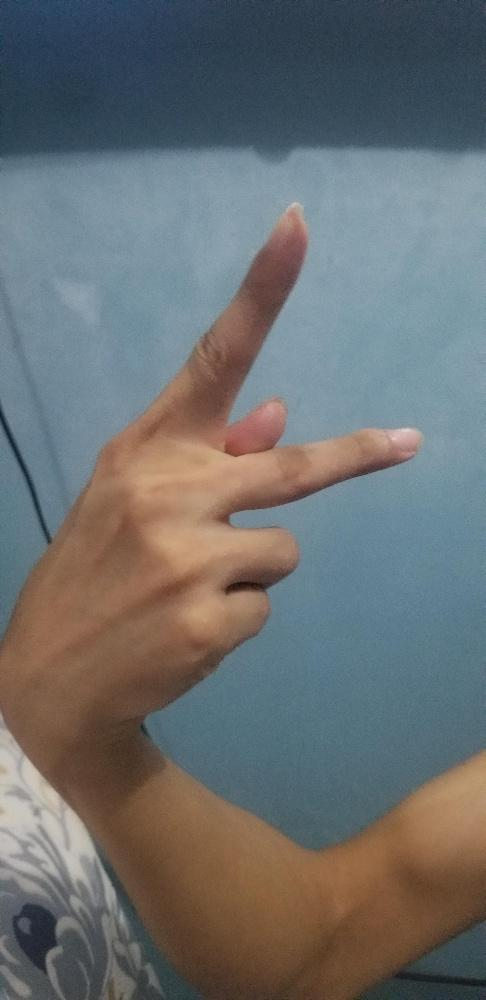k: (0, 197, 424, 748)
